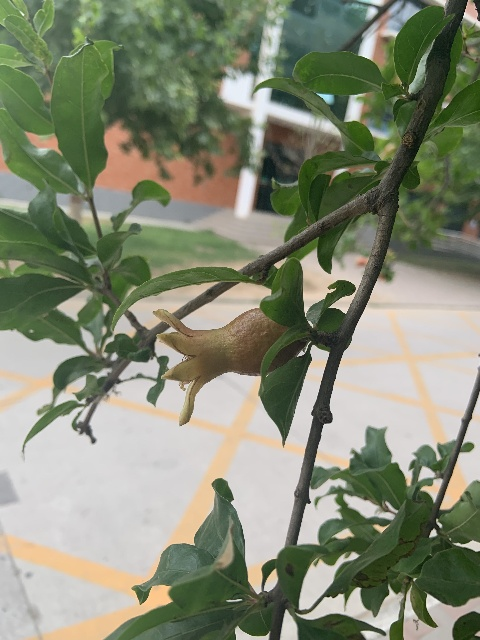early-fruit: (153, 306, 292, 425)
